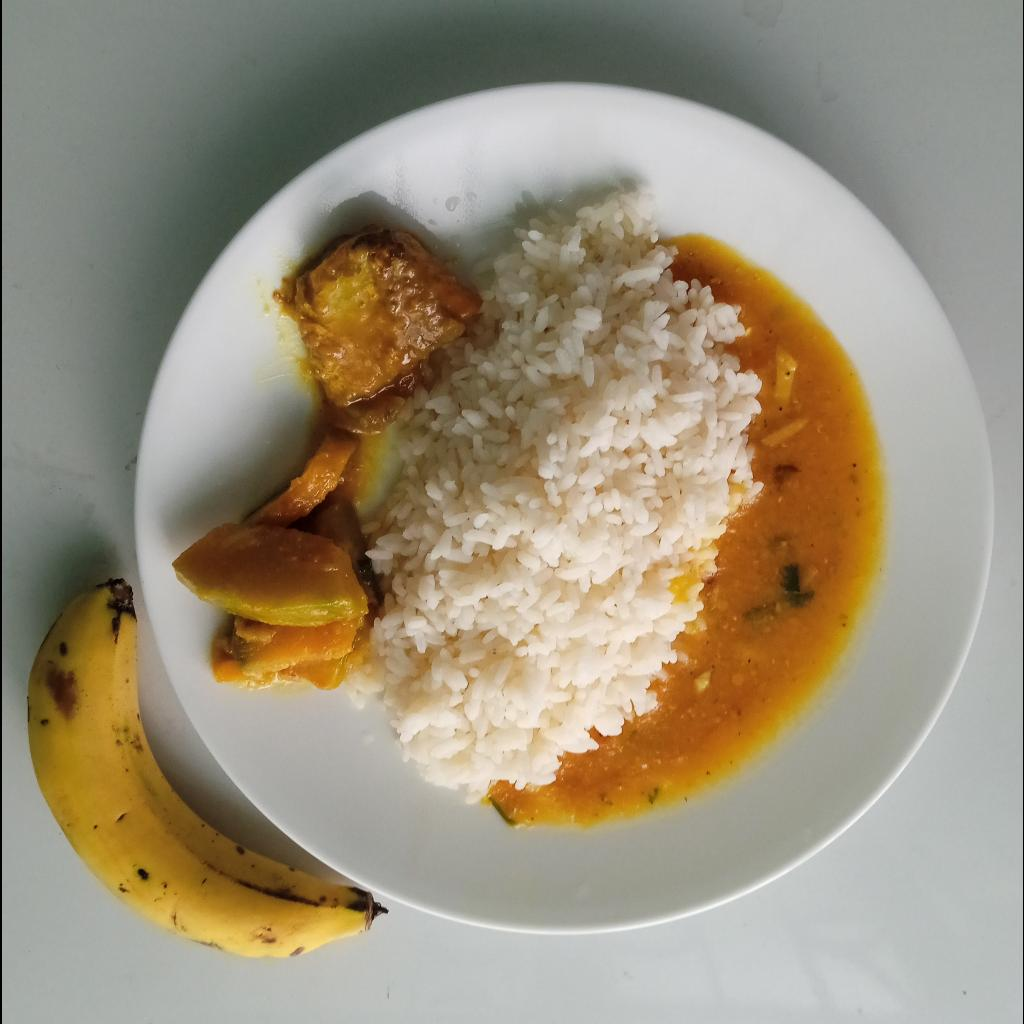banana: (19, 578, 370, 958)
daal: (492, 236, 882, 826)
fish: (292, 223, 482, 409)
kumra-vaji: (169, 436, 372, 688)
rice: (370, 177, 763, 796)
